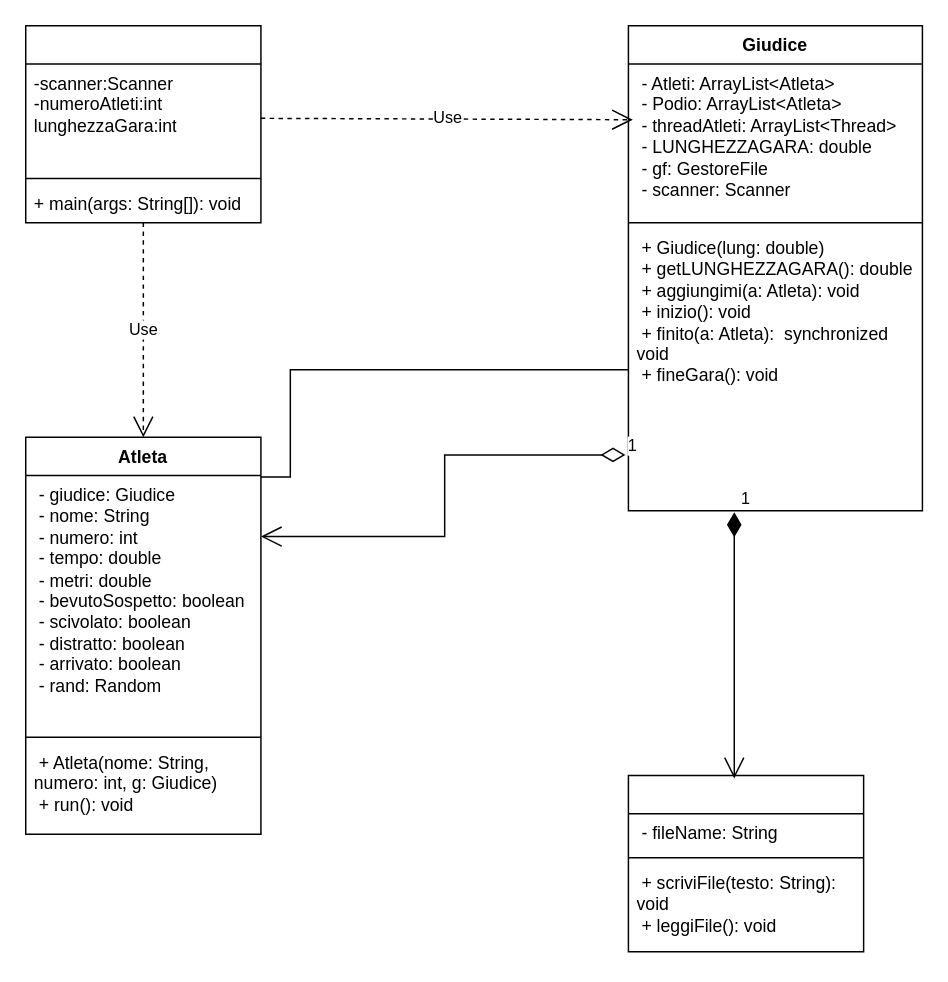
Image size: 948x982. Some labels were removed from this diagram. The shapes that lost their labels are listed below. From the top down, each one's box as (x1, y1, x2, y2) in pixels, then its label:
(24, 24, 261, 223): GaraAtletica
(627, 774, 864, 952): GestoreFile
